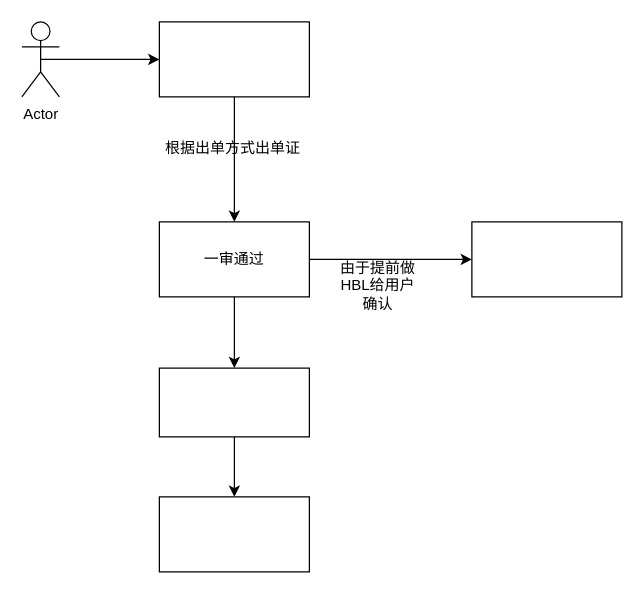
Some shapes in this 644 by 594 pixel diagram are drawn without their labels. The box of each missing label's shape, as (x1, y1, x2, y2) in pixels:
下单: (158, 21, 309, 97)
订舱确认: (158, 367, 309, 437)
